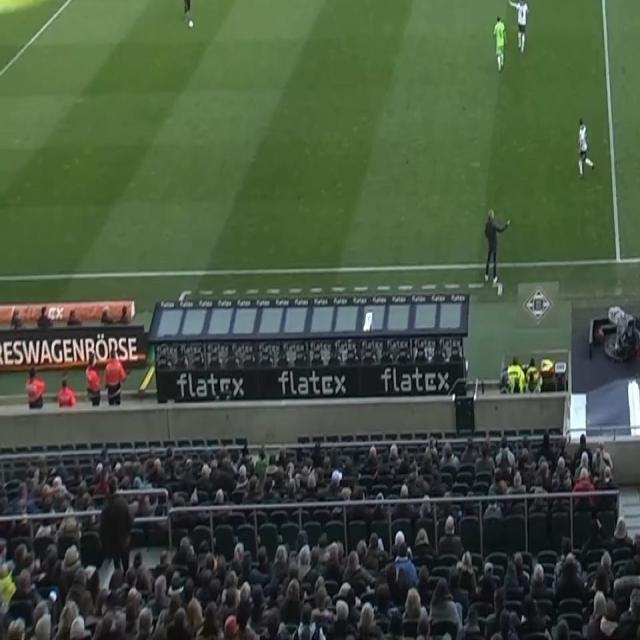ball: (188, 17, 195, 30)
